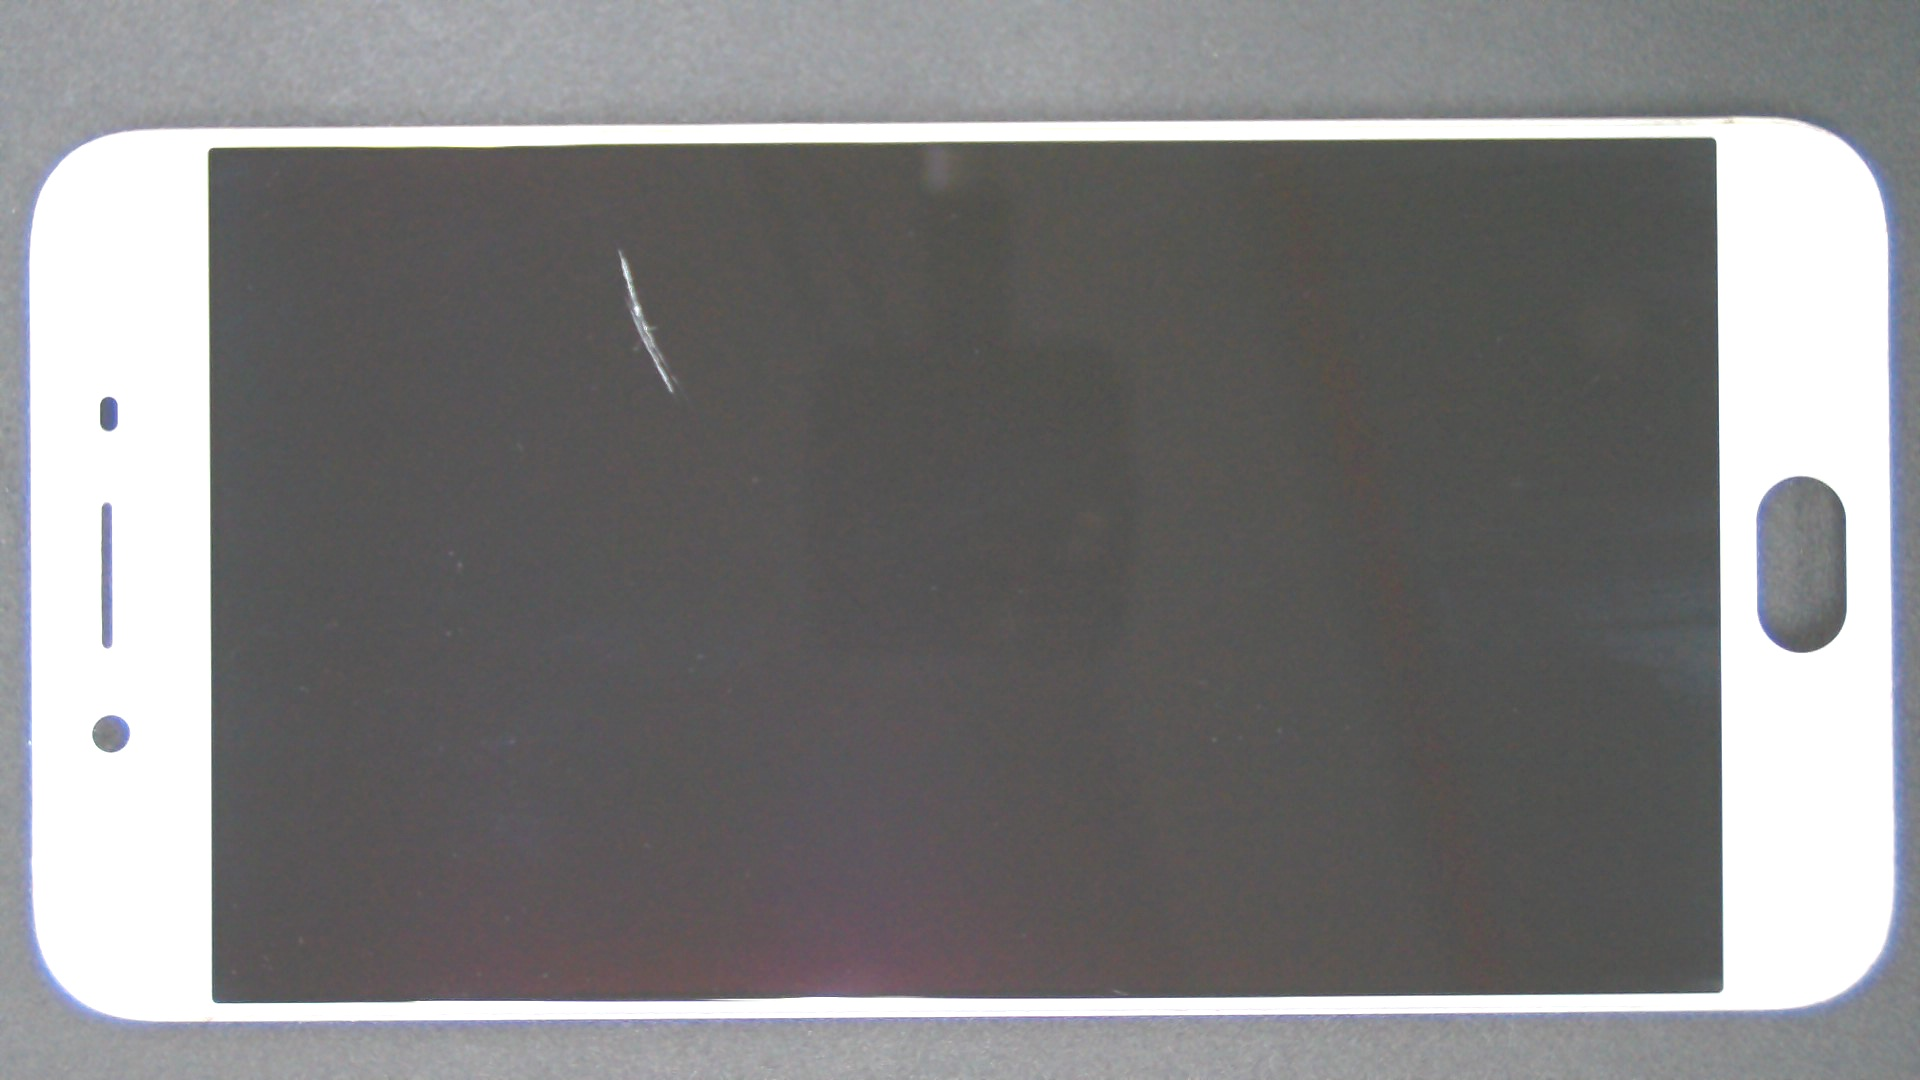oil: (311, 124, 931, 376)
